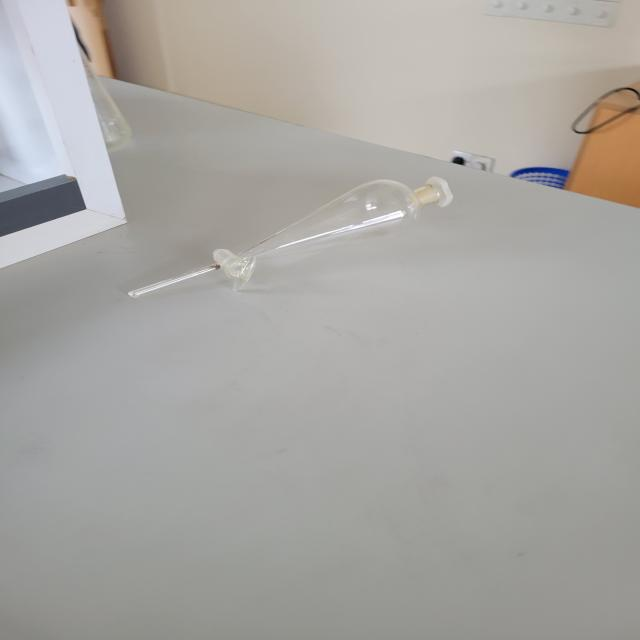Separating_Funnel: (93, 157, 487, 320)
